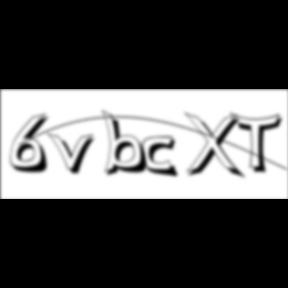6: (10, 112, 55, 176)
T: (230, 112, 288, 176)
X: (184, 112, 248, 182)
b: (101, 109, 154, 179)
c: (143, 136, 183, 180)
v: (47, 131, 101, 177)
